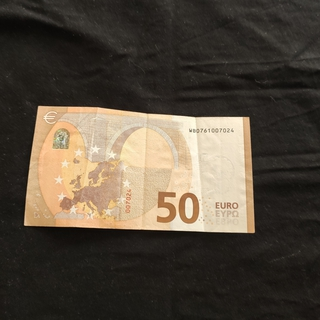50EUROBack: (22, 103, 256, 234)
